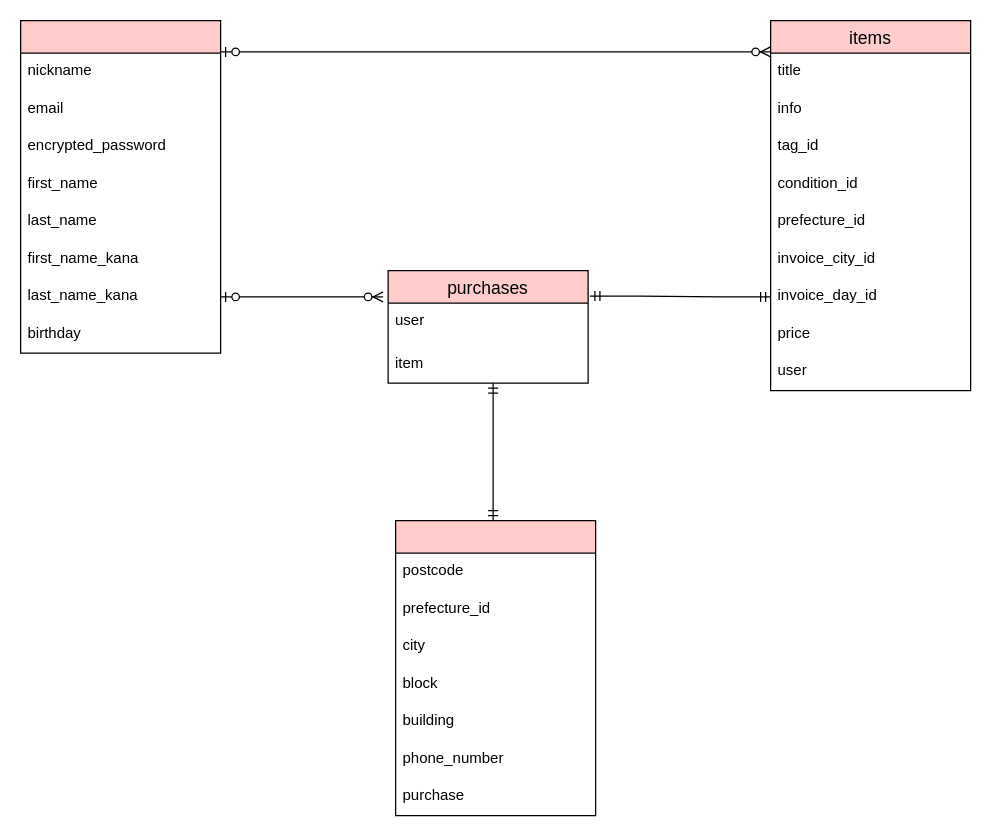
Image size: 991x836. Some labels were removed from this diagram. Each missing label, with the box of its shape:
orders: (394, 519, 596, 816)
users: (19, 19, 221, 353)
